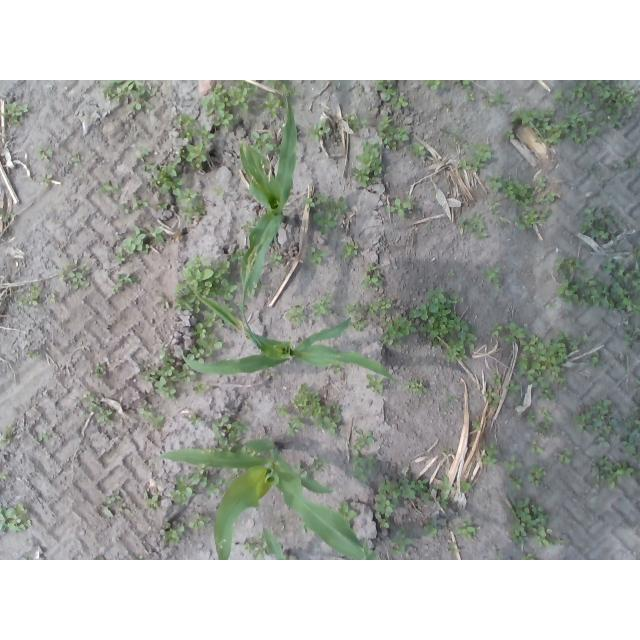Maize: (154, 434, 379, 560), (177, 286, 405, 385), (239, 83, 298, 349), (261, 522, 291, 560)
Weeds: (408, 286, 478, 362), (514, 332, 579, 399), (174, 253, 238, 314), (555, 272, 640, 313), (568, 81, 638, 128), (286, 381, 342, 439), (507, 496, 566, 549), (174, 112, 214, 171), (573, 398, 620, 446), (138, 349, 182, 399), (186, 310, 224, 366), (511, 107, 562, 146), (140, 158, 185, 199), (98, 80, 158, 110), (588, 454, 640, 488), (351, 140, 386, 189), (486, 174, 534, 208), (202, 83, 239, 127), (347, 430, 377, 483), (211, 415, 250, 451), (373, 477, 400, 528), (561, 108, 598, 145), (581, 207, 620, 242), (399, 467, 433, 506), (377, 116, 411, 151), (381, 316, 417, 349), (193, 463, 227, 497), (261, 80, 291, 118), (458, 142, 493, 174), (621, 405, 640, 463), (176, 187, 207, 222), (225, 81, 259, 112), (374, 80, 409, 110), (84, 392, 115, 425), (170, 474, 200, 507), (304, 191, 348, 213), (0, 502, 32, 532), (515, 206, 554, 230), (248, 128, 280, 156), (56, 263, 90, 289), (121, 226, 150, 255), (457, 210, 487, 238), (100, 490, 129, 518), (343, 301, 369, 332), (293, 453, 326, 477), (491, 321, 526, 343), (433, 475, 455, 509), (386, 194, 416, 218), (334, 500, 359, 528), (390, 529, 416, 555), (139, 403, 165, 429), (245, 536, 272, 561), (452, 518, 480, 541), (0, 102, 28, 124), (312, 211, 337, 235), (16, 283, 40, 307), (161, 522, 184, 547), (359, 265, 384, 287), (598, 256, 624, 277), (554, 255, 584, 273), (309, 119, 332, 142), (312, 291, 332, 317), (481, 441, 501, 467), (453, 80, 476, 101), (482, 267, 503, 290), (528, 465, 549, 488), (344, 112, 368, 132), (112, 273, 136, 293), (177, 361, 198, 383), (538, 409, 555, 436), (368, 297, 392, 316), (621, 322, 640, 346), (484, 90, 510, 107), (364, 374, 384, 395), (283, 305, 306, 323), (483, 386, 501, 408), (187, 514, 210, 531), (504, 454, 525, 472), (0, 426, 16, 449), (629, 245, 640, 278), (307, 246, 325, 266), (407, 379, 429, 395), (341, 241, 359, 260), (503, 379, 522, 397), (142, 489, 160, 508), (130, 192, 149, 209), (99, 181, 122, 195), (148, 225, 165, 243), (34, 147, 54, 162), (240, 219, 260, 234), (528, 438, 545, 455), (36, 171, 52, 189), (440, 126, 461, 139), (422, 521, 439, 537), (557, 448, 573, 465), (535, 192, 557, 204), (134, 145, 151, 160), (422, 80, 446, 90), (188, 413, 204, 428), (508, 475, 525, 489), (193, 381, 210, 395), (269, 251, 284, 266), (410, 143, 426, 157), (94, 362, 107, 379), (114, 248, 127, 265), (521, 408, 535, 423), (459, 477, 473, 491), (0, 206, 12, 222), (246, 447, 265, 457), (447, 544, 461, 557), (118, 202, 132, 215), (276, 404, 289, 417), (38, 429, 50, 443), (537, 175, 548, 190), (577, 334, 595, 343), (553, 88, 563, 104), (70, 155, 82, 168), (300, 519, 310, 534), (590, 350, 599, 366), (26, 348, 39, 359), (490, 373, 503, 384), (520, 552, 537, 560), (155, 200, 170, 209), (212, 188, 225, 197), (627, 158, 637, 169), (331, 363, 342, 373), (505, 129, 515, 139), (472, 421, 483, 429), (496, 218, 506, 226), (445, 394, 455, 402), (494, 550, 503, 558), (448, 268, 457, 276), (49, 293, 55, 304), (0, 472, 8, 480), (231, 467, 240, 474), (443, 449, 451, 456), (525, 269, 532, 276)
